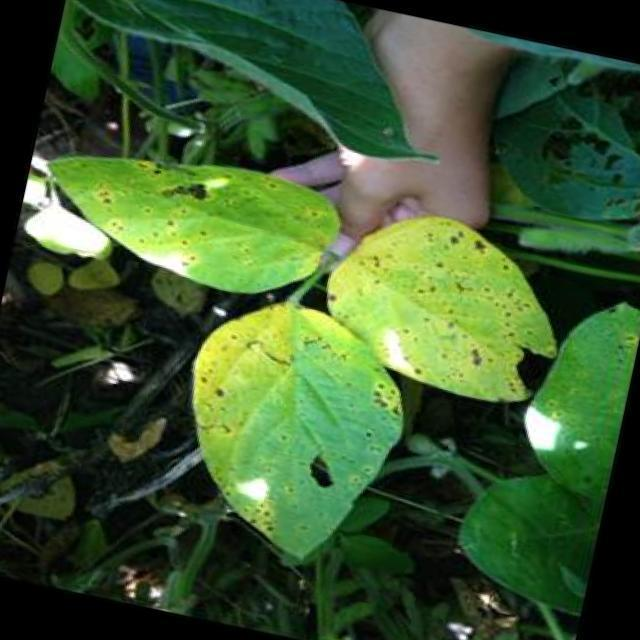Bacterial Spot: (164, 286, 416, 574), (36, 134, 324, 296), (338, 214, 552, 394)
